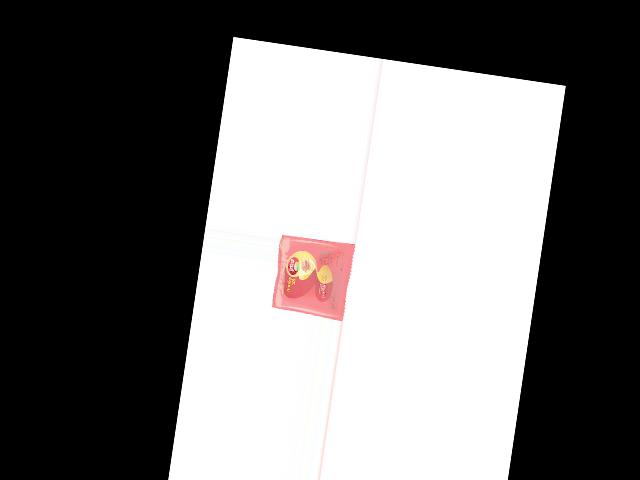cheese: (270, 233, 356, 318)
